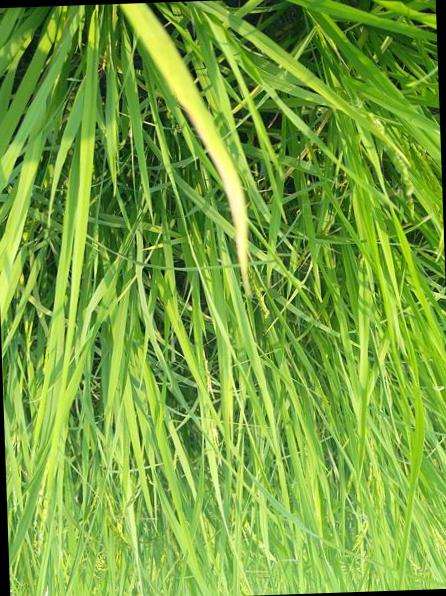Leaf Blight: (127, 18, 250, 293)
